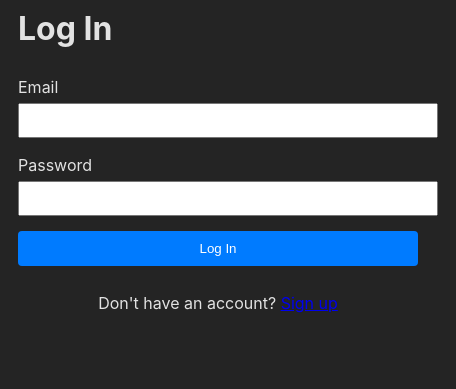
LoginPage › should display error for invalid credentials (401)
This screenshot has width=456, height=389.
Type "test@example.com" into the field labelled "Email" at (228, 120), box [18,103,438,138]
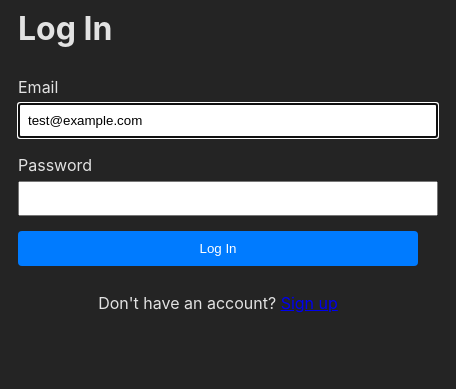
Type "WrongPassword!" into the password field labelled "Password" at (228, 198), box [18,181,438,216]
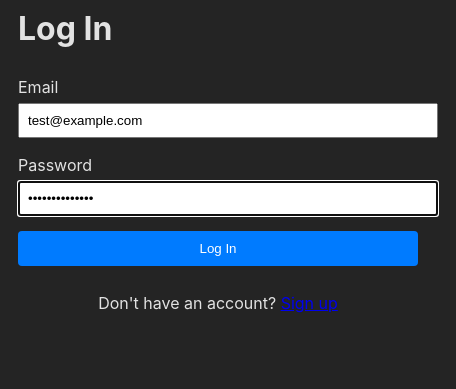
Click the button "Log In" at (218, 248), box [18,231,418,266]
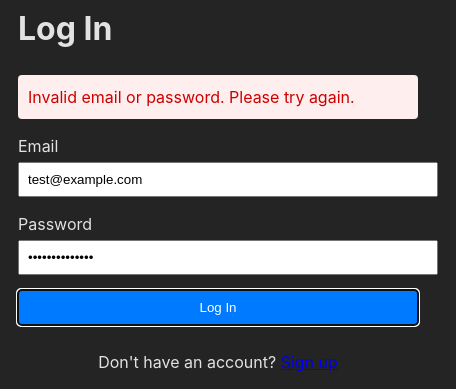
Check: the text "Invalid email or password. Please try again." is shown, box [18,75,418,119]
